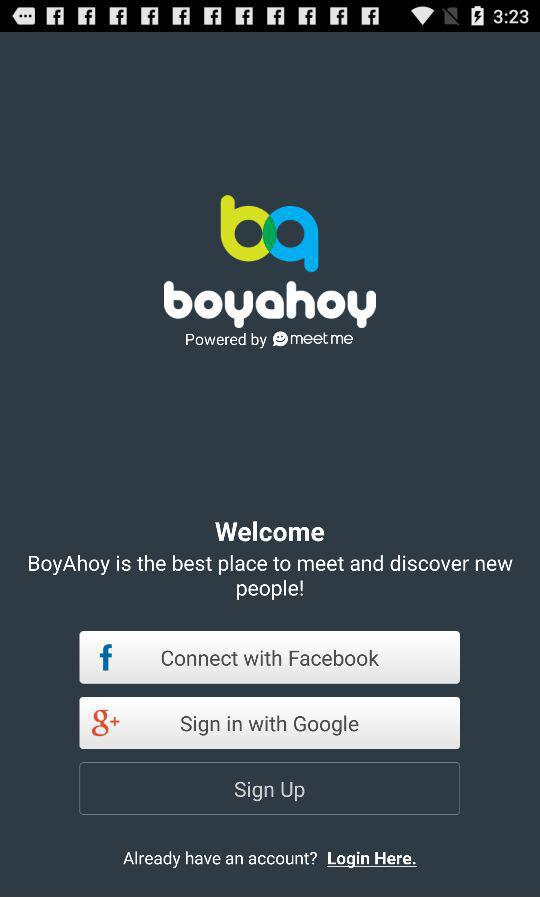Image: (163, 193, 378, 350)
Text: (29, 554, 513, 601), (123, 850, 418, 869), (214, 520, 326, 543)
TextButton: (79, 762, 461, 816), (80, 631, 461, 685), (80, 697, 461, 750)
UpperTaskBar: (1, 1, 540, 33)
